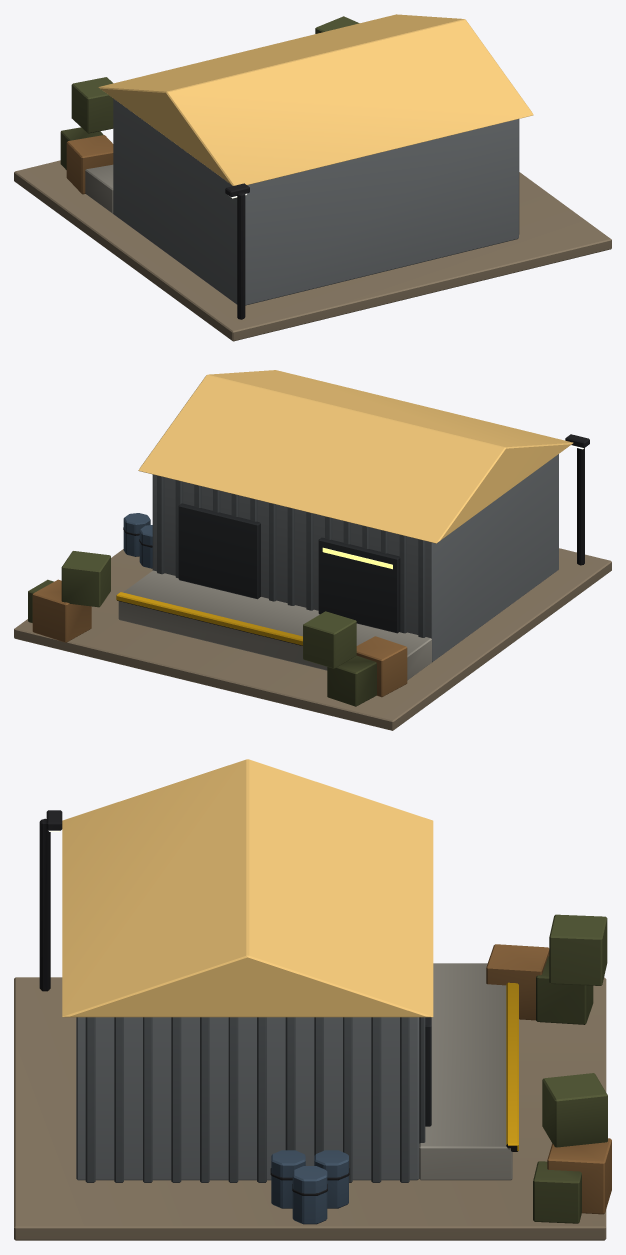
The model's file is depot.glb.
3 renders of one model, top to bottom at view 1: azimuth 30°, elevation 25°; view 2: azimuth 150°, elevation 25°; view 3: azimuth 270°, elevation 25°, orthographic. The views are drawn at different scales.
Visible parts, largest first — view 1: depot; view 2: depot; view 3: depot.
Boxes of the visible parts, x1,y1,x2,y2 form: depot: (14, 14, 611, 341); depot: (14, 370, 611, 730); depot: (14, 759, 611, 1240).
Bounding box in the file's own units: 1.9 × 0.8683 × 1.92.
